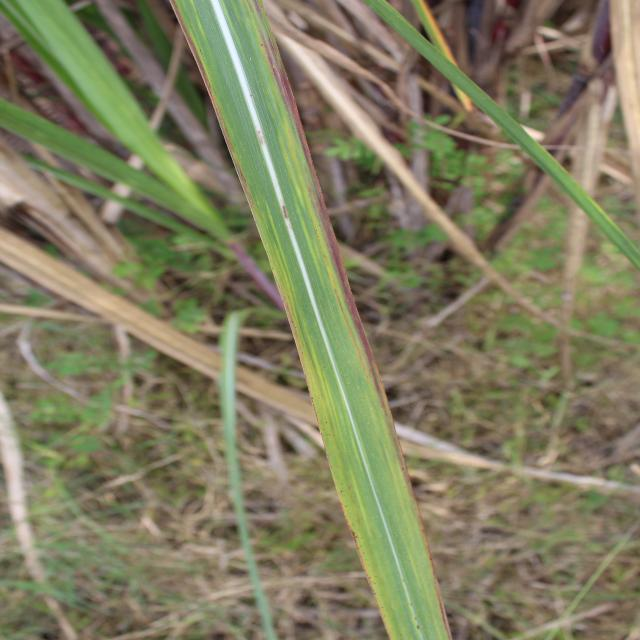Sugarcane: (158, 4, 450, 633), (325, 2, 636, 292), (1, 79, 235, 247), (333, 0, 501, 130)
